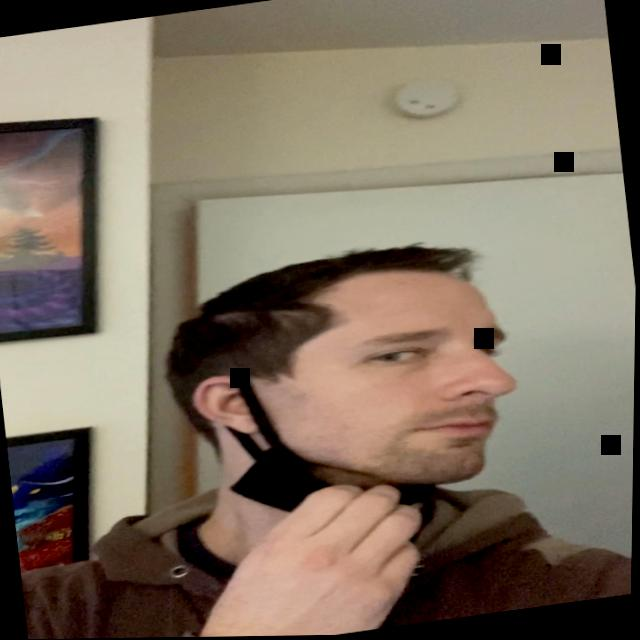NO-Mask: (187, 248, 540, 531)
